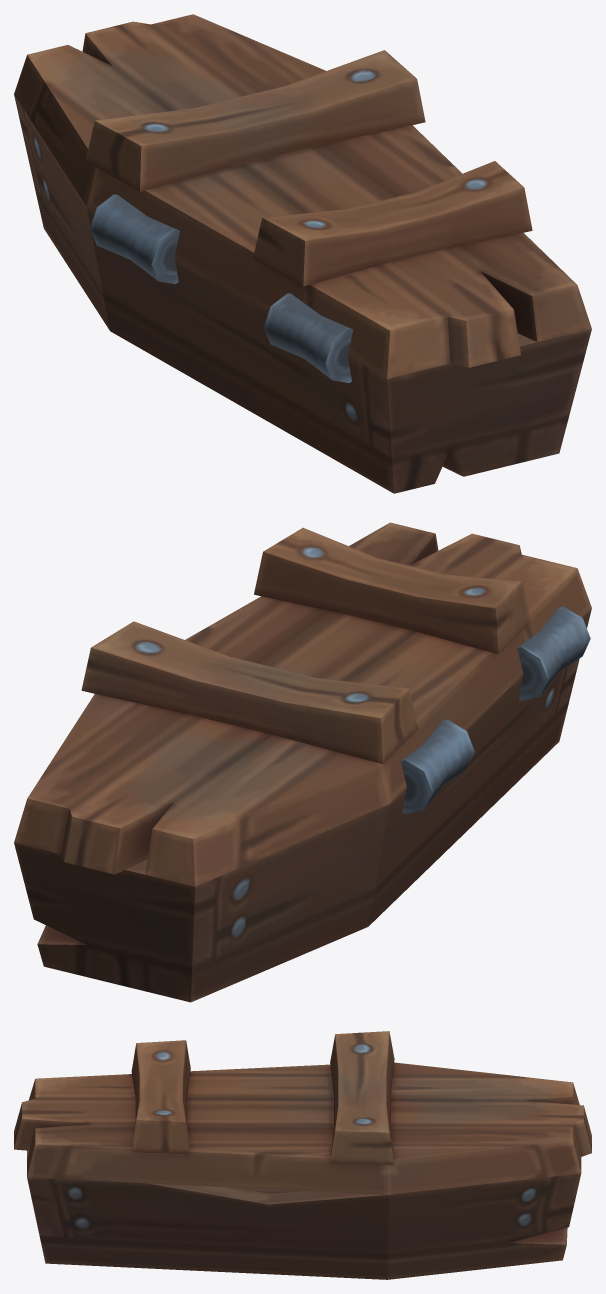
File: coffin.fbx
3 views of the same model, one above another, from view 1: azimuth 30°, elevation 25°; view 2: azimuth 150°, elevation 25°; view 3: azimuth 270°, elevation 25° (orthographic). The views are drawn at different scales.
Visible parts, largest first — view 1: coffin; view 2: coffin; view 3: coffin.
Part boxes in pixels (x1,y1,x2,y2): coffin: (14,14,591,493); coffin: (14,522,591,1002); coffin: (14,1031,591,1279).
Bounding box in the file's own units: 107 × 67.15 × 229.
